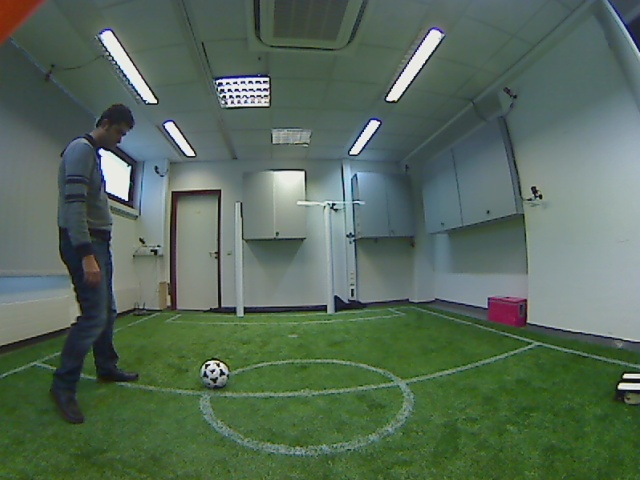ball: (195, 356, 232, 391)
